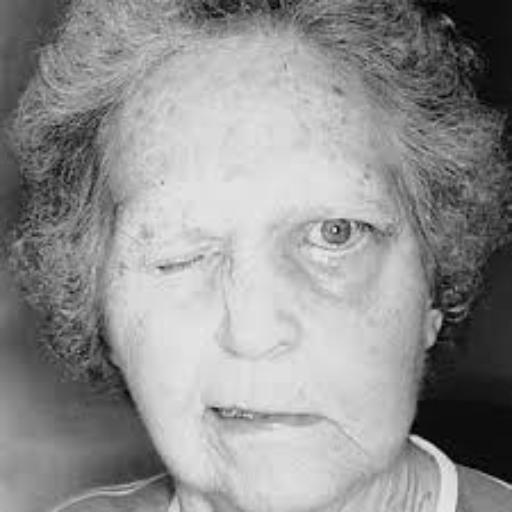left_eye: (298, 218, 385, 254)
left_lip_corner: (302, 405, 330, 431)
right_eye: (145, 238, 215, 276)
right_lip_corner: (204, 398, 232, 425)
